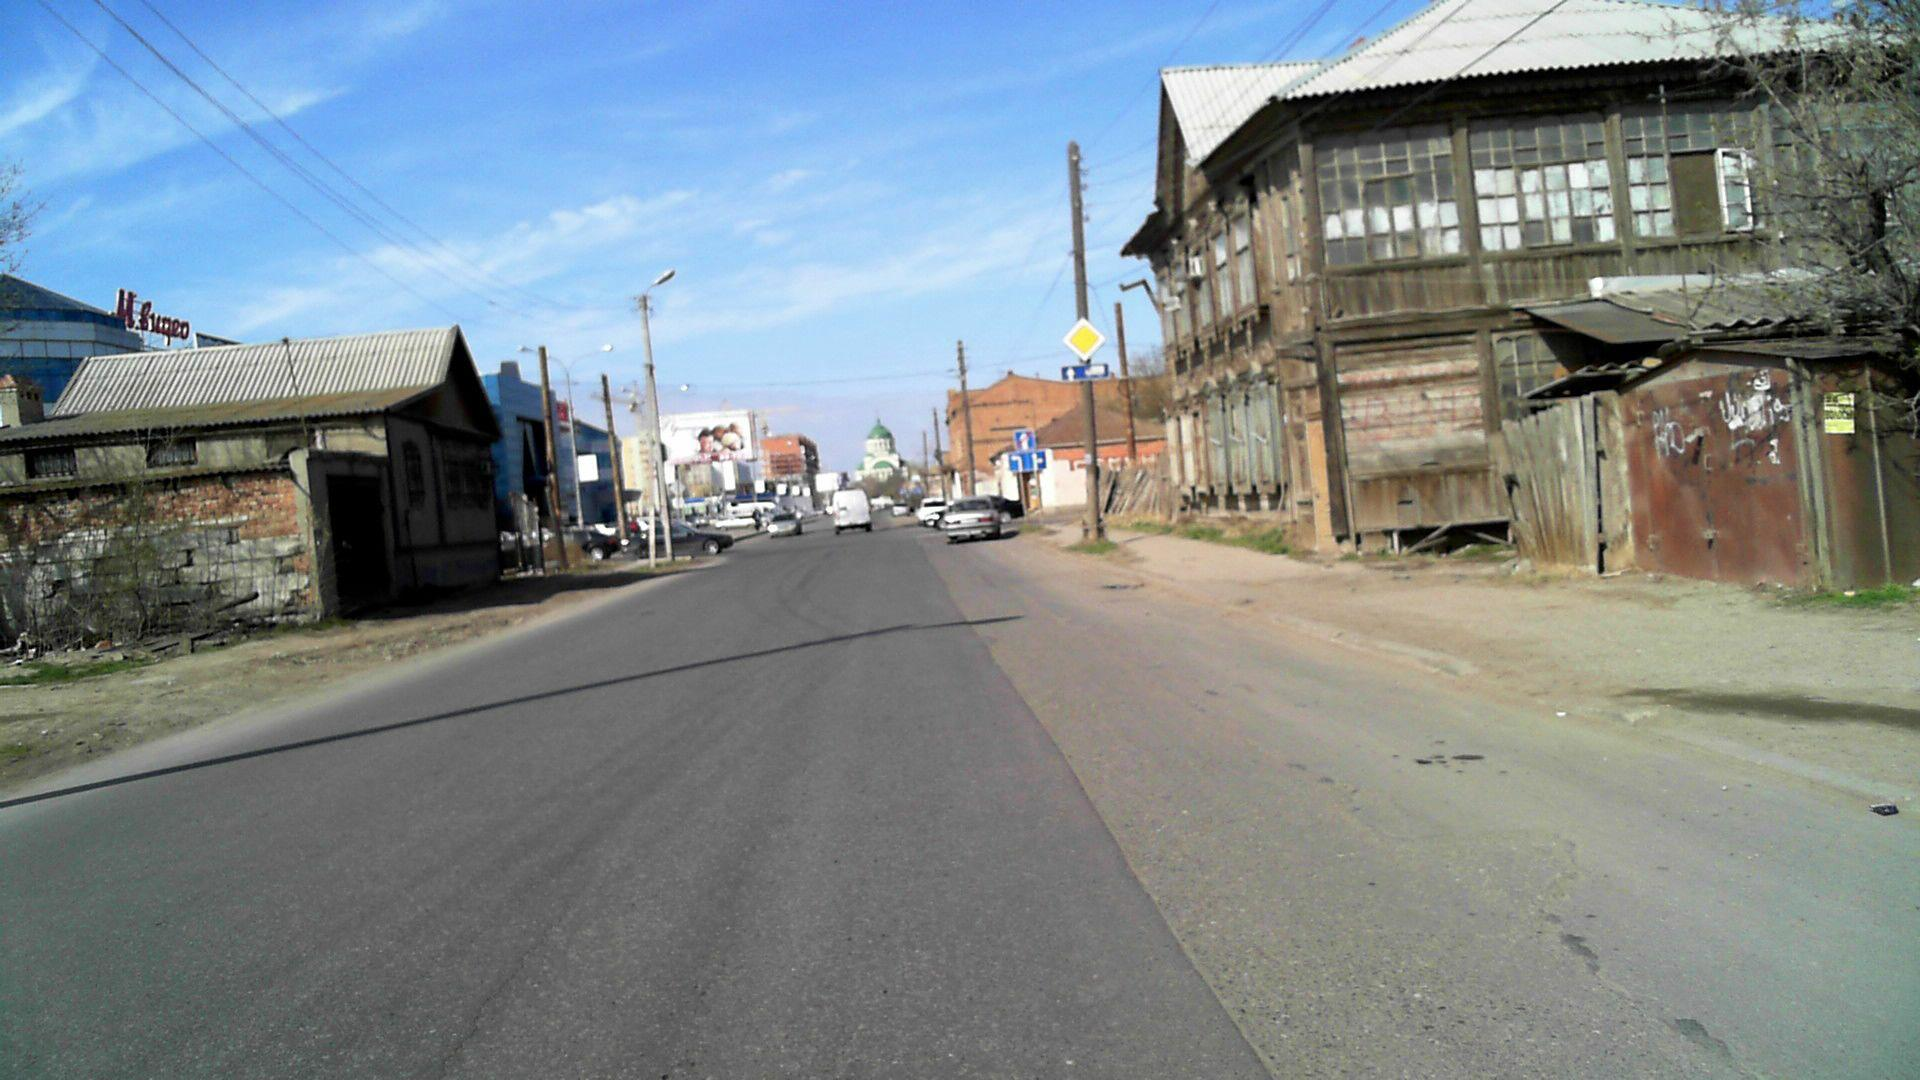2_1: (1059, 315, 1106, 361)
5_15_1: (1007, 452, 1048, 475)
5_6: (1013, 429, 1035, 448)
6_15_1: (1059, 364, 1113, 382)
